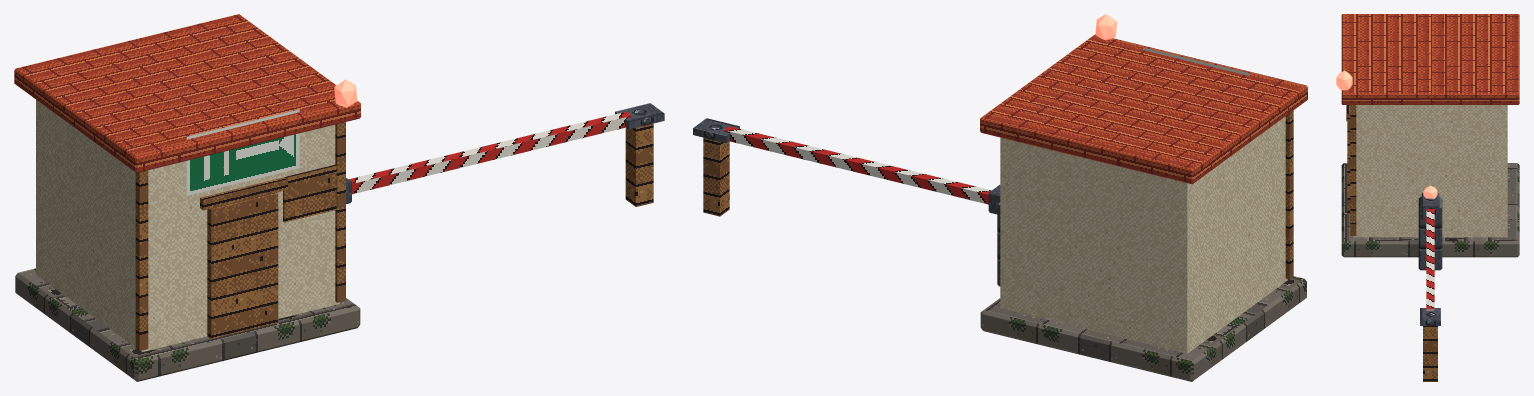
Rendered from safari_exit.glb.
The picture shows the model from 3 angles, left to right: view 1: azimuth 30°, elevation 25°; view 2: azimuth 150°, elevation 25°; view 3: azimuth 270°, elevation 25°; orthographic projection. The views are drawn at different scales.
Parts seen in each view (by area): view 1: Exit, Barrier; view 2: Exit, Barrier; view 3: Exit, Barrier, Glow.
Boxes of the visible parts, x1,y1,x2,y2 form: Exit: (14, 14, 664, 381); Barrier: (346, 111, 631, 203); Exit: (693, 34, 1307, 381); Barrier: (724, 126, 1000, 214); Exit: (1341, 14, 1519, 381); Barrier: (1421, 193, 1439, 310); Glow: (1336, 70, 1437, 198).
Bounding box in the file's own units: 8.25 × 3.4 × 3.09.
Materials: 8 (7 with a texture image).
